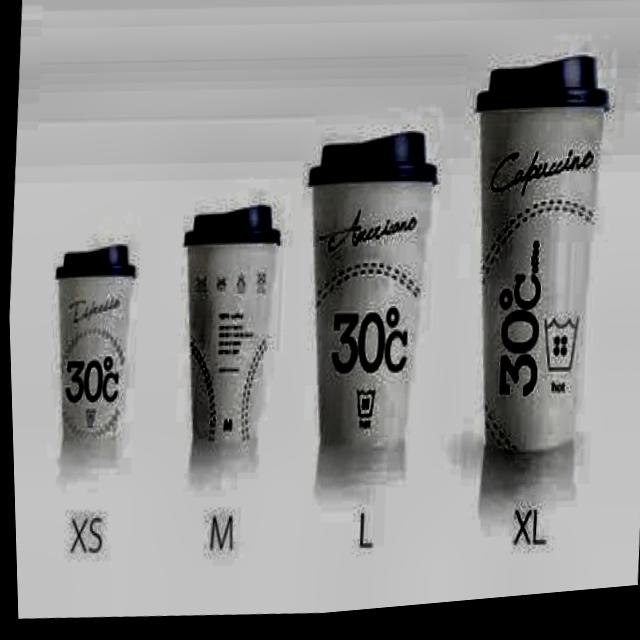Cup: (449, 73, 624, 467), (161, 211, 297, 492), (36, 236, 147, 476)
